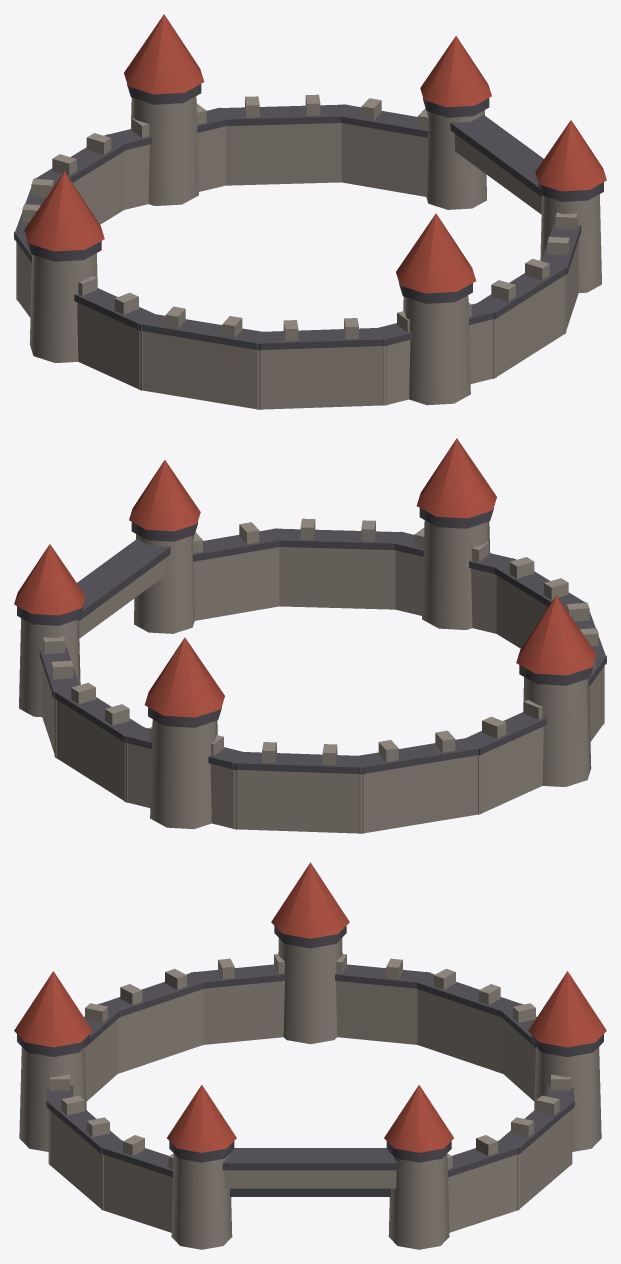
Rendered from base_standard_walls_2.glb.
3 renders of one model, top to bottom at view 1: azimuth 30°, elevation 25°; view 2: azimuth 150°, elevation 25°; view 3: azimuth 270°, elevation 25°, orthographic. The views are drawn at different scales.
Parts seen in each view (by area): view 1: wall_8, wall_7, wall_1, tower_270_body, tower_90_body, tower_180_body, wall_0, wall_10, gate_tower_n_body, wall_6, tower_180_roof, tower_90_roof (+26 smaller); view 2: wall_3, wall_4, wall_10, tower_90_body, tower_270_body, tower_180_body, wall_11, wall_1, gate_tower_s_body, wall_5, tower_180_roof, tower_270_roof (+26 smaller); view 3: tower_180_body, gate_tower_n_body, gate_tower_s_body, wall_4, wall_7, wall_5, wall_6, wall_0, wall_11, tower_90_body, tower_270_body, gate_arch_cap (+25 smaller).
Boxes of the visible parts, x1,y1,x2,y2 form: wall_8: (257, 346, 387, 409); wall_7: (139, 330, 261, 409); wall_1: (225, 123, 341, 185); tower_270_body: (403, 295, 470, 405); tower_90_body: (131, 96, 198, 205); tower_180_body: (29, 253, 97, 362); wall_0: (341, 123, 427, 196); wall_10: (493, 274, 566, 378); gate_tower_n_body: (426, 110, 486, 209); wall_6: (77, 302, 142, 390); tower_180_roof: (24, 171, 104, 251); tower_90_roof: (124, 14, 204, 94); wall_3: (233, 770, 363, 833); wall_4: (359, 754, 481, 833); wall_10: (279, 547, 395, 609); tower_90_body: (150, 719, 217, 829); tower_270_body: (422, 520, 489, 629); tower_180_body: (523, 677, 591, 786); wall_11: (193, 547, 279, 620); wall_1: (54, 698, 127, 802); gate_tower_s_body: (134, 534, 194, 633); wall_5: (478, 726, 543, 814); tower_180_roof: (516, 595, 596, 675); tower_270_roof: (416, 438, 496, 518); tower_180_body: (278, 938, 342, 1044); gate_tower_n_body: (388, 1153, 449, 1249); gate_tower_s_body: (171, 1153, 232, 1249); wall_4: (417, 989, 503, 1073); wall_7: (117, 989, 203, 1073); wall_5: (336, 981, 417, 1044); wall_6: (203, 981, 284, 1044); wall_0: (448, 1154, 519, 1232); wall_11: (101, 1154, 172, 1232); tower_90_body: (534, 1047, 601, 1151); tower_270_body: (19, 1047, 86, 1151); gate_arch_cap: (222, 1148, 398, 1170).
Size of the model in its own units: 1.16 by 0.3815 by 1.22.
